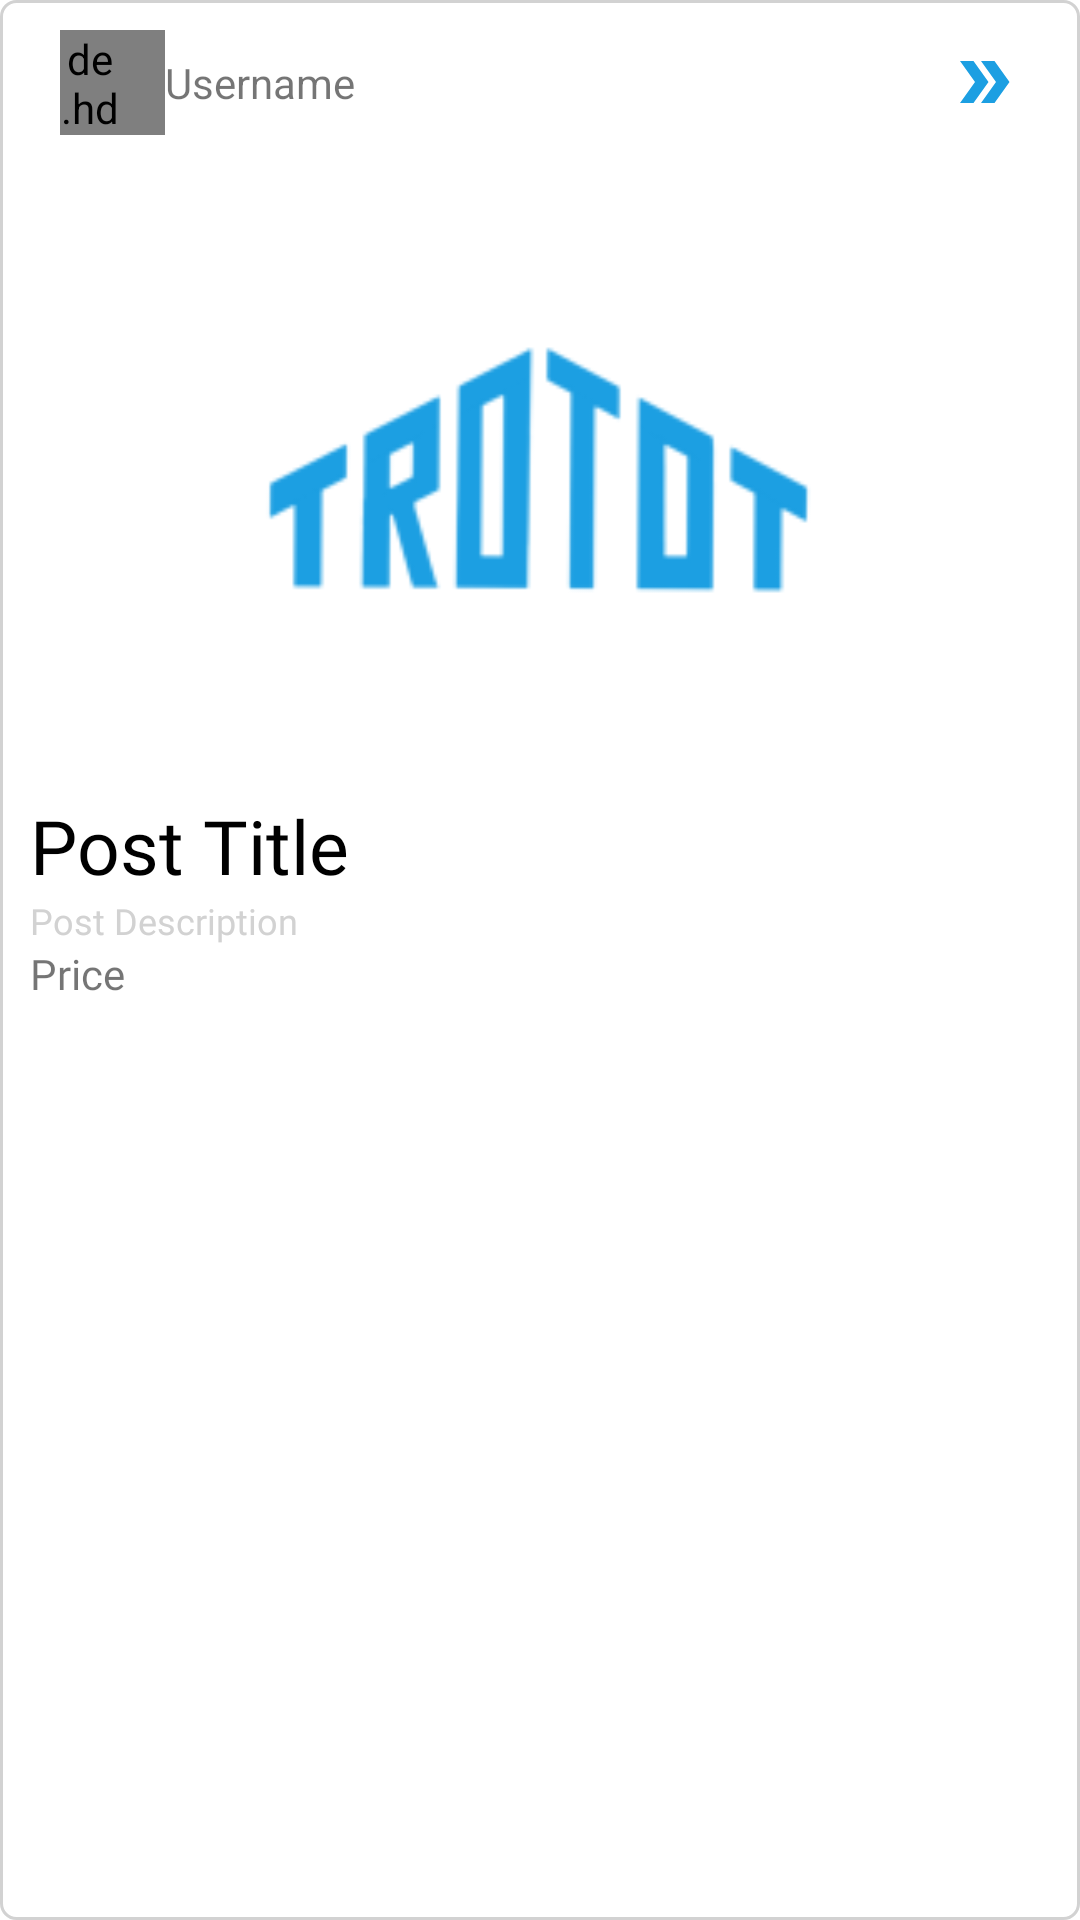

Icon click points for this 1080w x 1920h phone screenshot, format (x,y):
arrow: (985,82)
